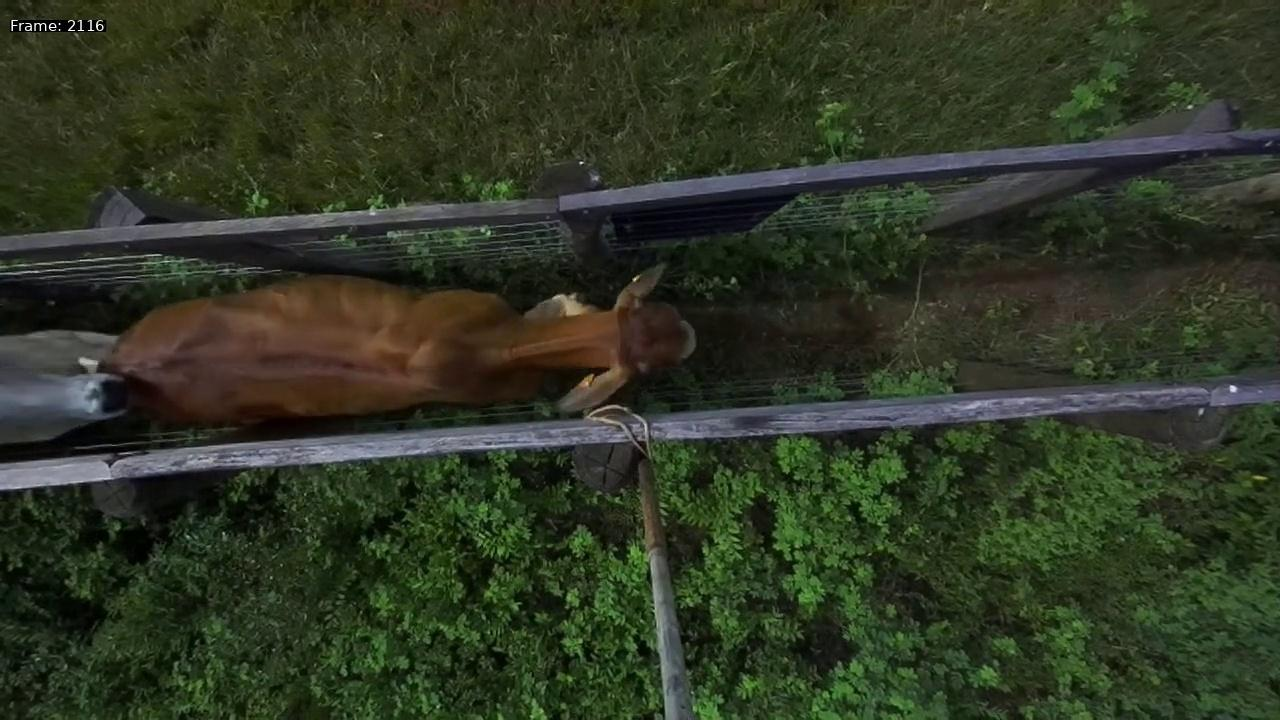cattle: (85, 225, 702, 461)
